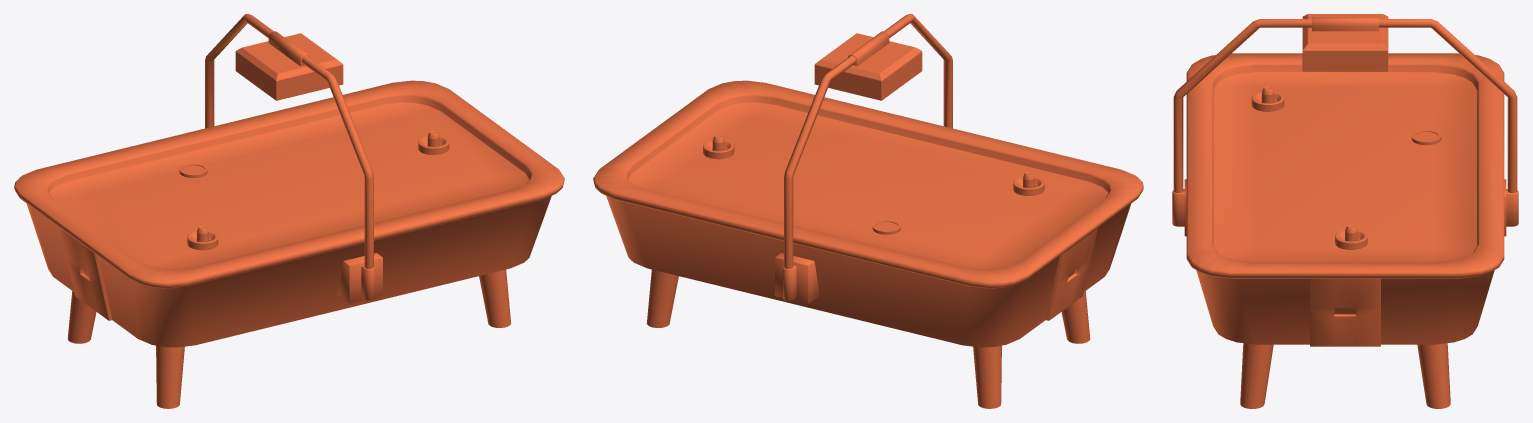
The model's file is AirHockey.fbx.
The picture shows the model from 3 angles, left to right: view 1: azimuth 30°, elevation 25°; view 2: azimuth 150°, elevation 25°; view 3: azimuth 270°, elevation 25°; orthographic projection. The views are drawn at different scales.
Visible parts, largest first — view 1: AirHockey, Handle_2, Handle_1; view 2: AirHockey, Handle_1, Handle_2; view 3: AirHockey, Handle_2, Handle_1, Disk.
Boxes of the visible parts, x1=… form: AirHockey: x1=14, y1=14, x2=564, y2=408; Handle_2: x1=187, y1=226, x2=218, y2=250; Handle_1: x1=418, y1=131, x2=449, y2=154; AirHockey: x1=593, y1=14, x2=1143, y2=408; Handle_1: x1=703, y1=135, x2=734, y2=159; Handle_2: x1=1013, y1=172, x2=1044, y2=195; AirHockey: x1=1172, y1=14, x2=1518, y2=408; Handle_2: x1=1251, y1=86, x2=1284, y2=111; Handle_1: x1=1335, y1=224, x2=1367, y2=249; Disk: x1=1411, y1=129, x2=1441, y2=145.
Size of the model in its own units: 3.06 by 1.96 by 2.04.
